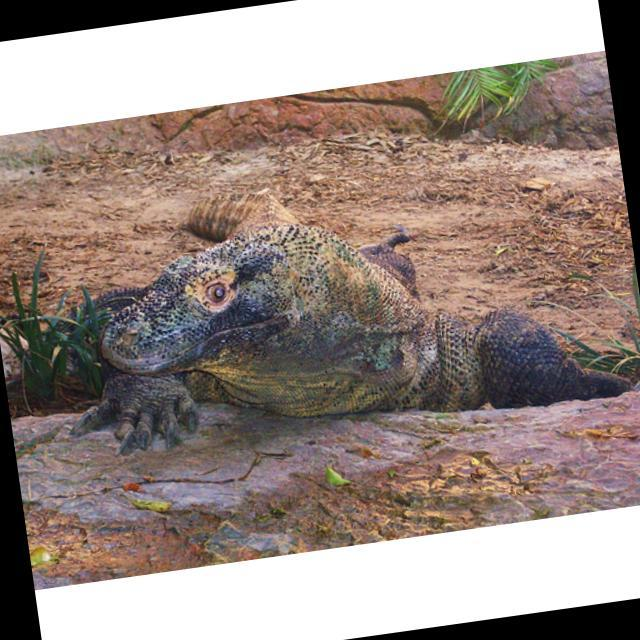KomodoDragon: (47, 172, 634, 474)
